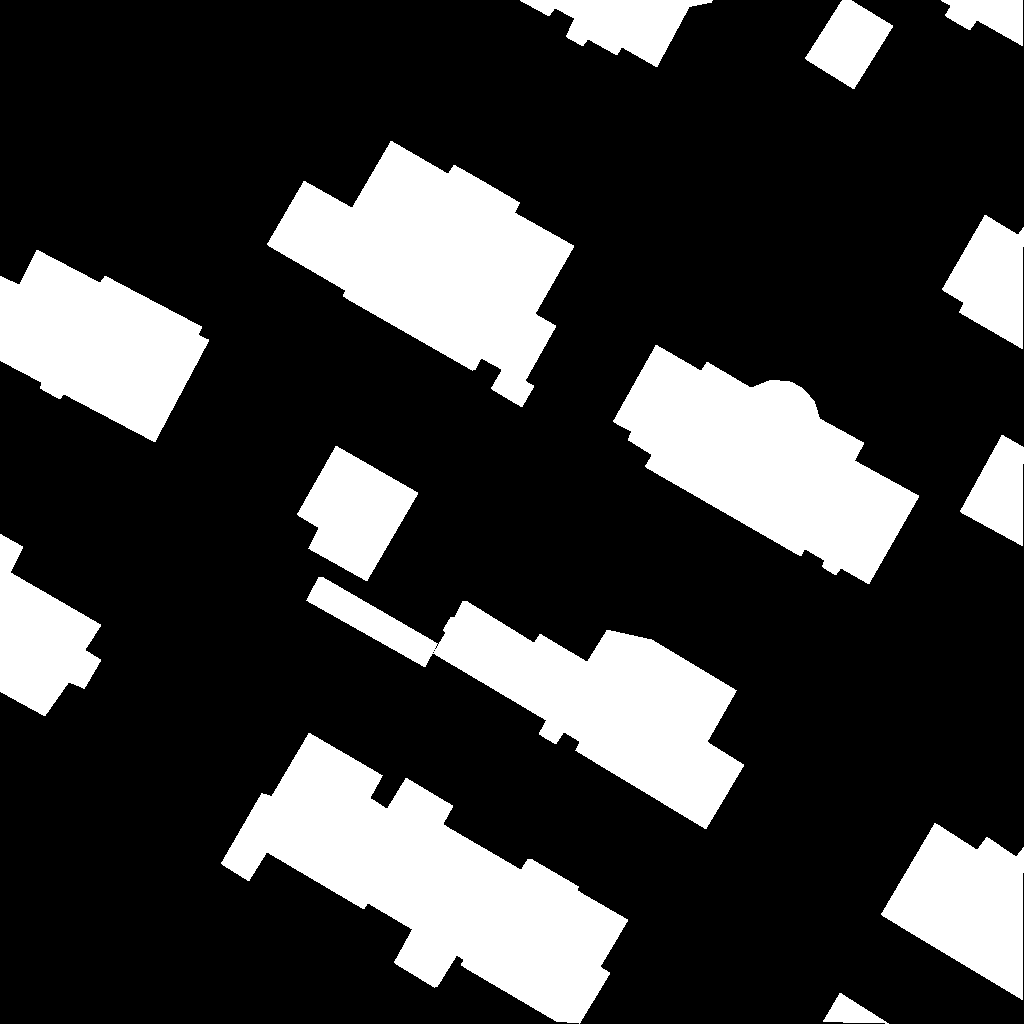building: (221, 733, 629, 1024), (267, 141, 575, 408), (613, 345, 920, 585), (433, 600, 745, 830), (0, 250, 210, 443), (881, 823, 1024, 1001), (0, 534, 102, 717), (297, 446, 419, 582), (519, 0, 714, 68), (306, 576, 439, 668), (942, 215, 1024, 350), (805, 0, 894, 90), (960, 435, 1024, 547), (940, 0, 1024, 47), (823, 993, 890, 1024)
